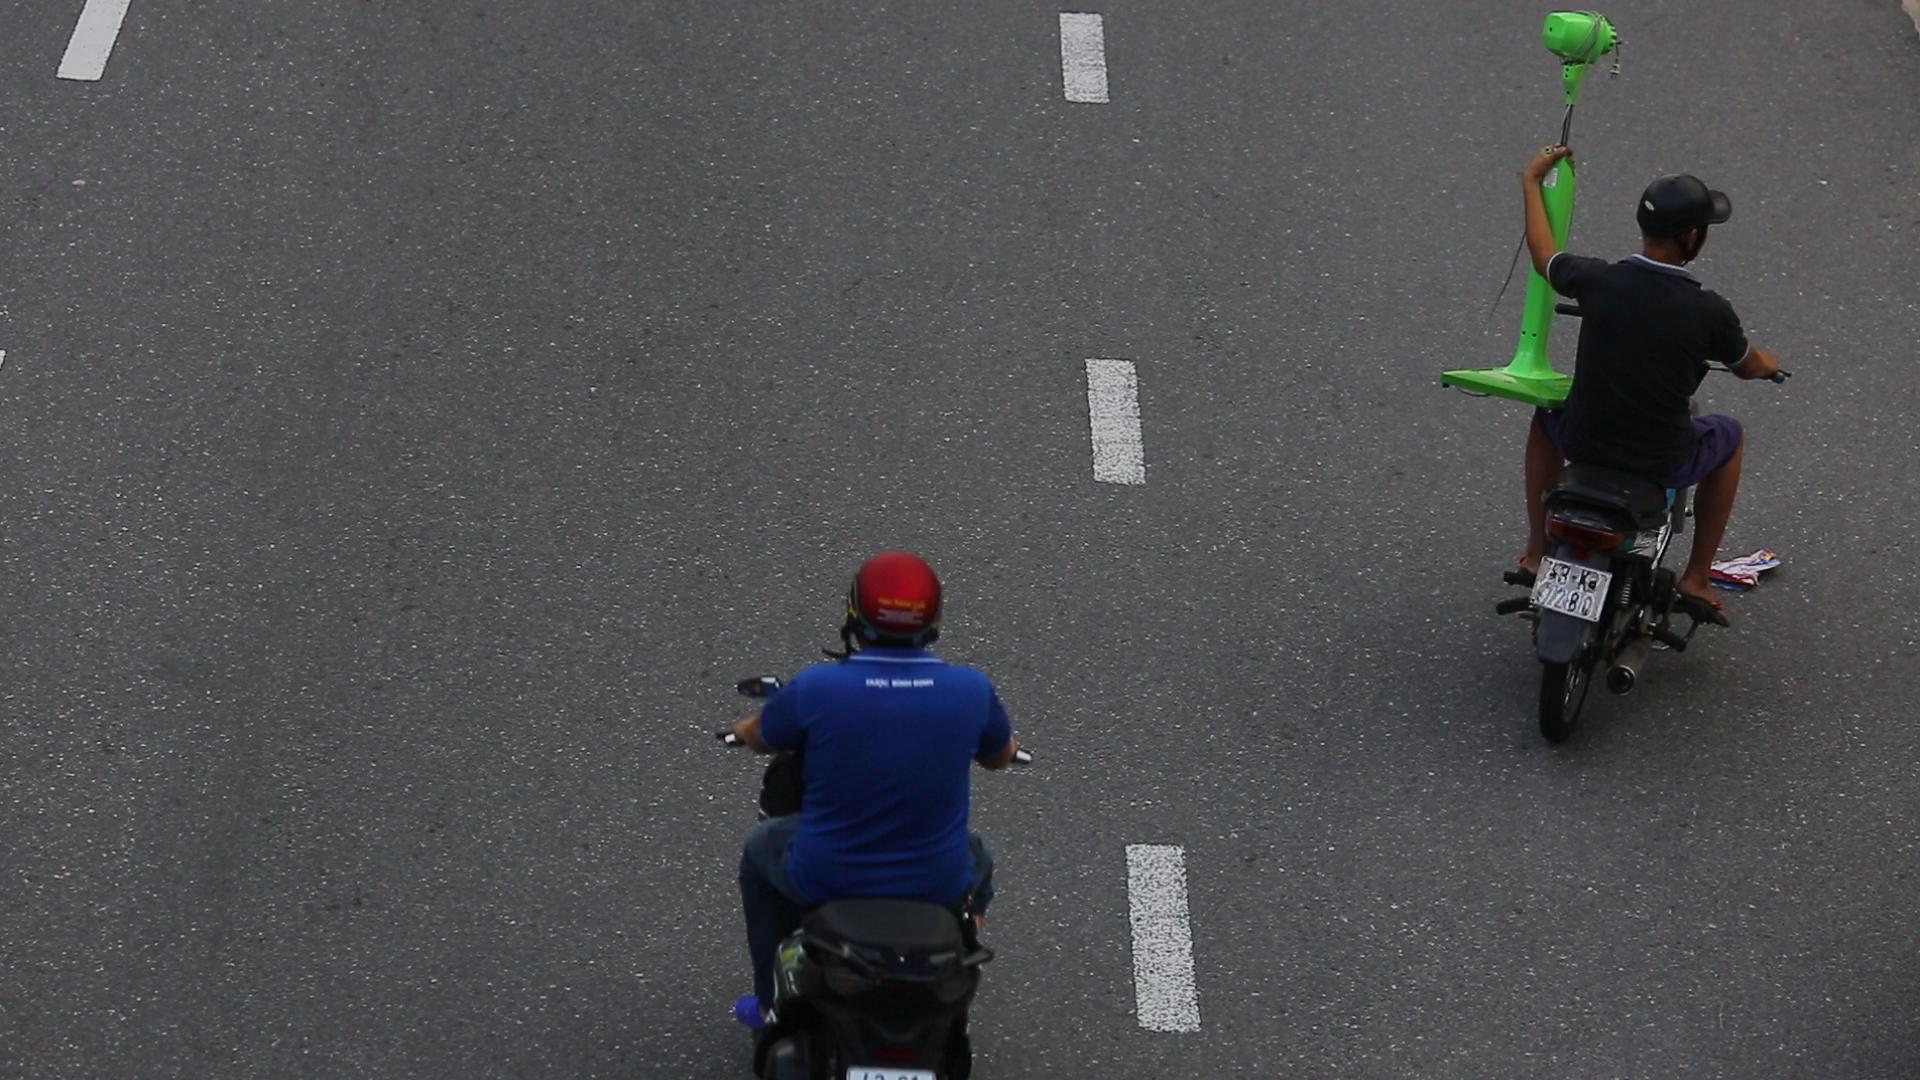motobike: (1494, 108, 1776, 754)
